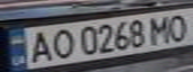0: (75, 24, 100, 56)
2: (97, 20, 118, 54)
6: (112, 19, 133, 52)
8: (127, 17, 151, 48)
A: (21, 29, 54, 64)
M: (145, 14, 175, 45)
O: (45, 26, 75, 61), (163, 11, 190, 42)
